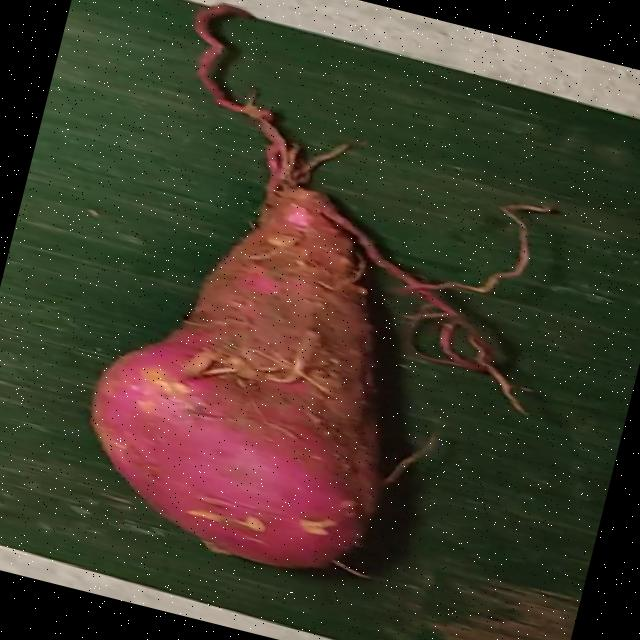Sweet Potato: (86, 114, 383, 569)
